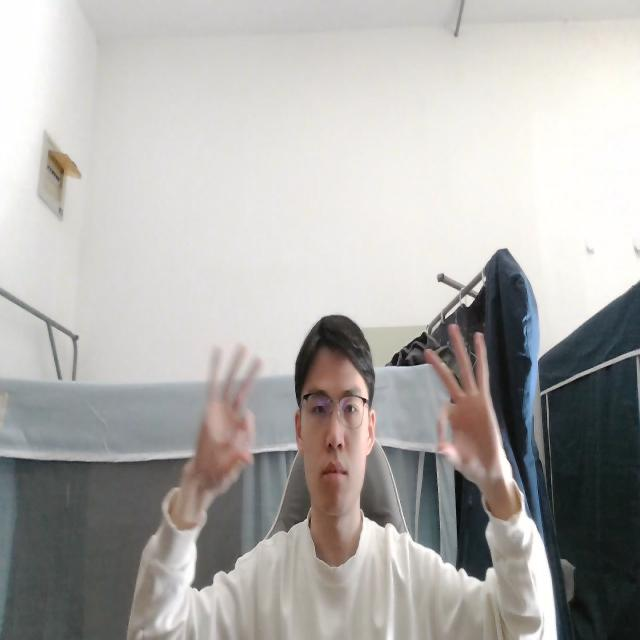ok: (424, 323, 512, 492)
